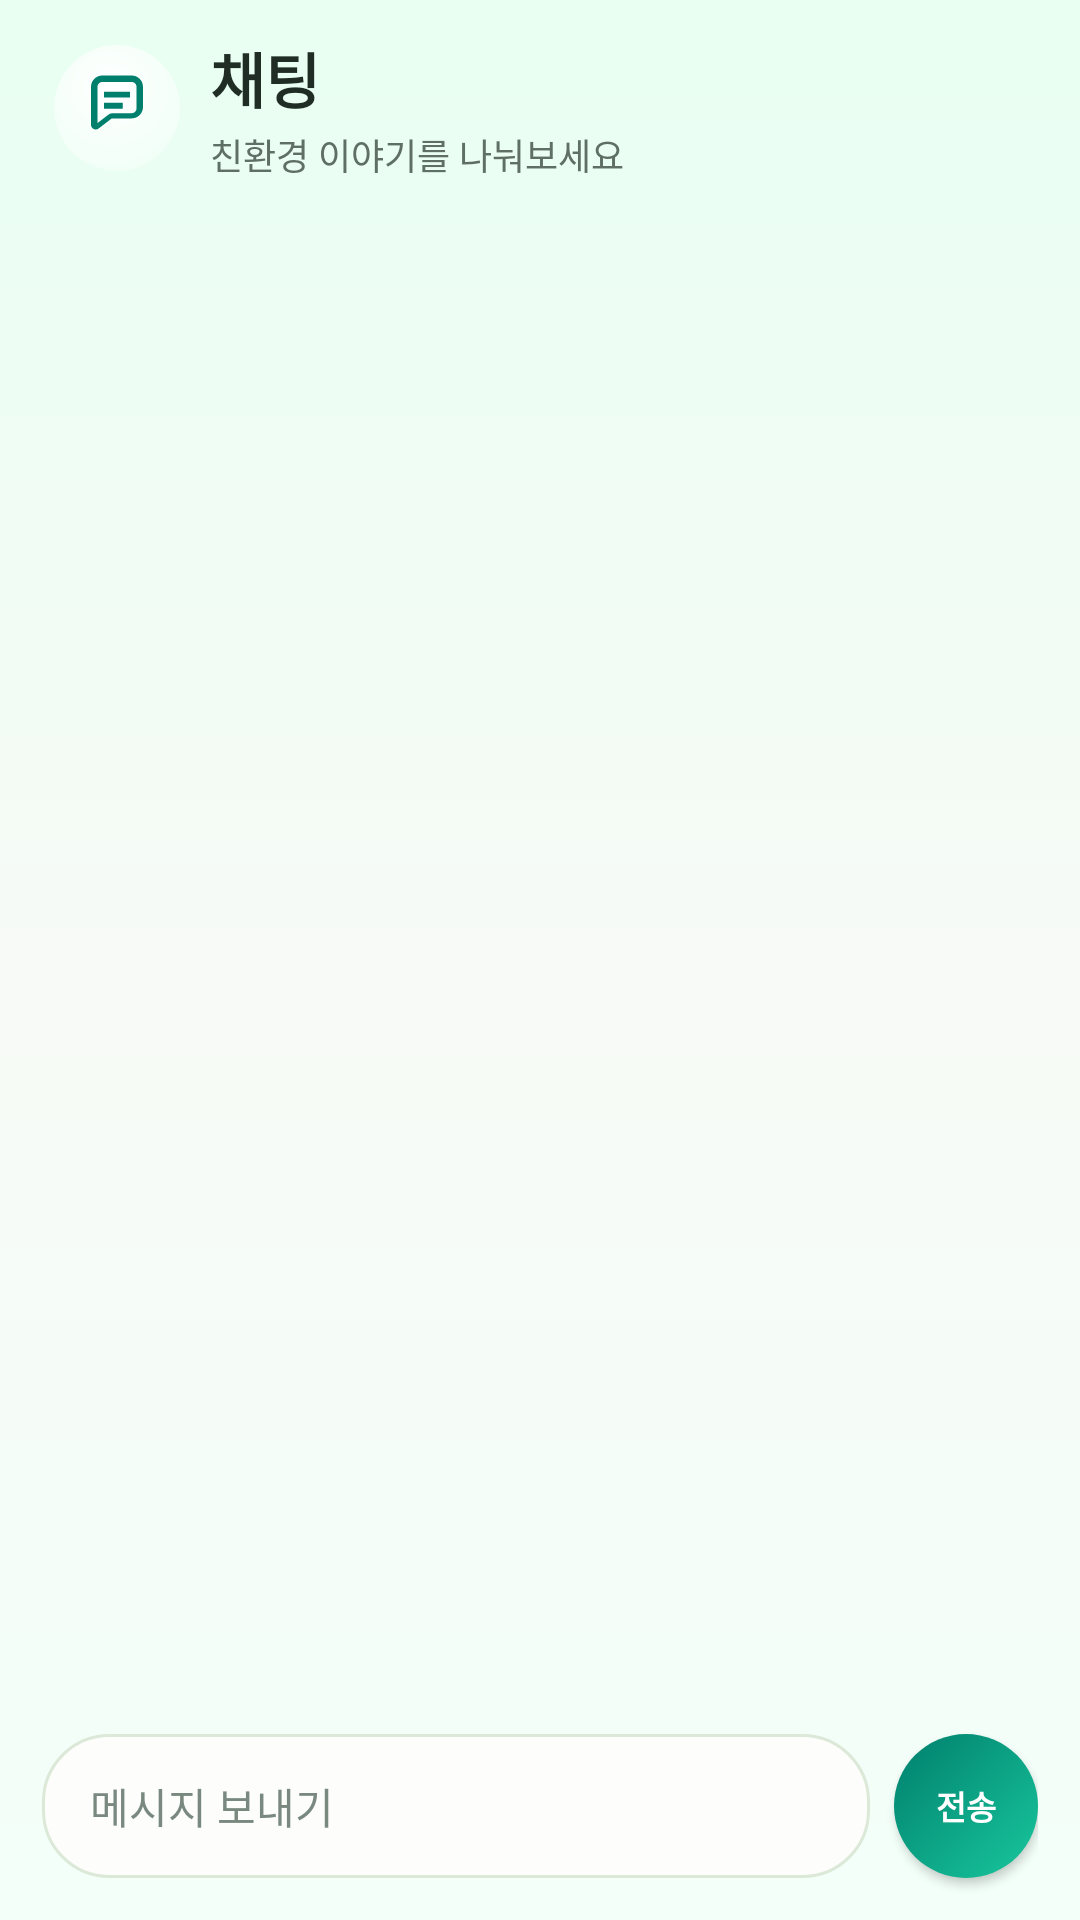

Where icons sit on this 1080 × 1920 app screen, as Rect(x1, y1, x2, y2):
chat: Rect(91, 75, 143, 130)
